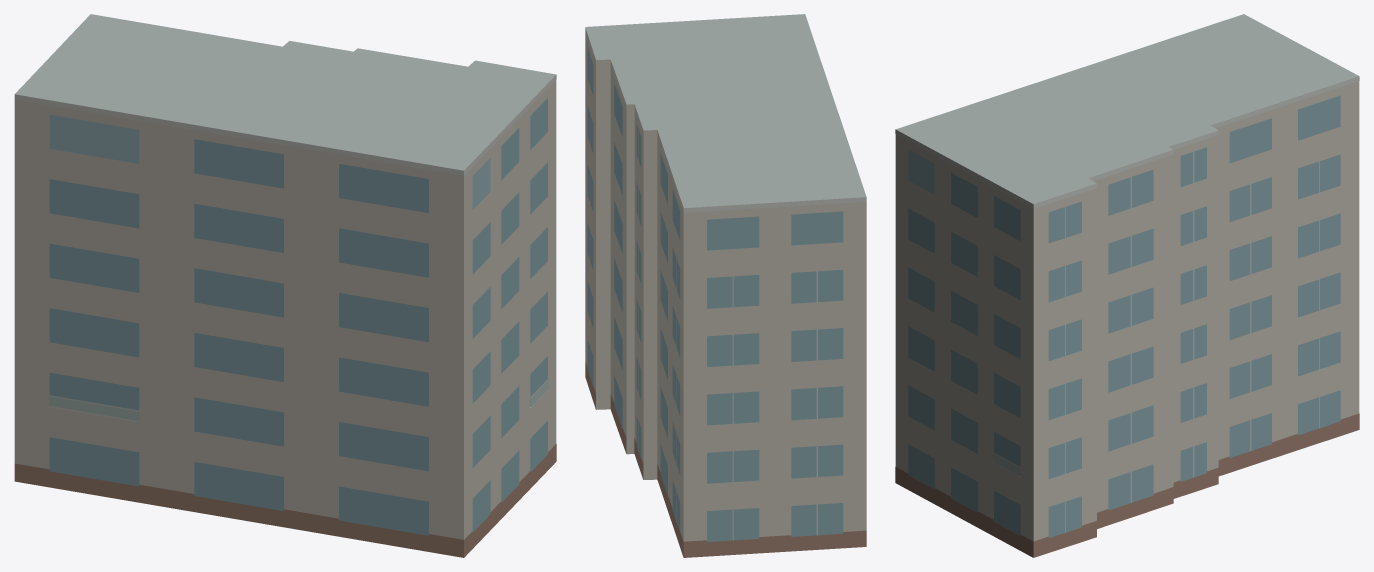
File: survey-upis-32935668.glb
3 views of the same model, side by side, from view 1: azimuth 30°, elevation 25°; view 2: azimuth 150°, elevation 25°; view 3: azimuth 270°, elevation 25° (orthographic). The views are drawn at different scales.
Visible parts, largest first — view 1: survey-upis-32935668.tmp; view 2: survey-upis-32935668.tmp; view 3: survey-upis-32935668.tmp.
Boxes of the visible parts, x1,y1,x2,y2 form: survey-upis-32935668.tmp: (14,14,556,557); survey-upis-32935668.tmp: (585,14,866,557); survey-upis-32935668.tmp: (895,14,1359,557).
Bounding box in the file's own units: 21.11 × 18.3 × 21.76.
